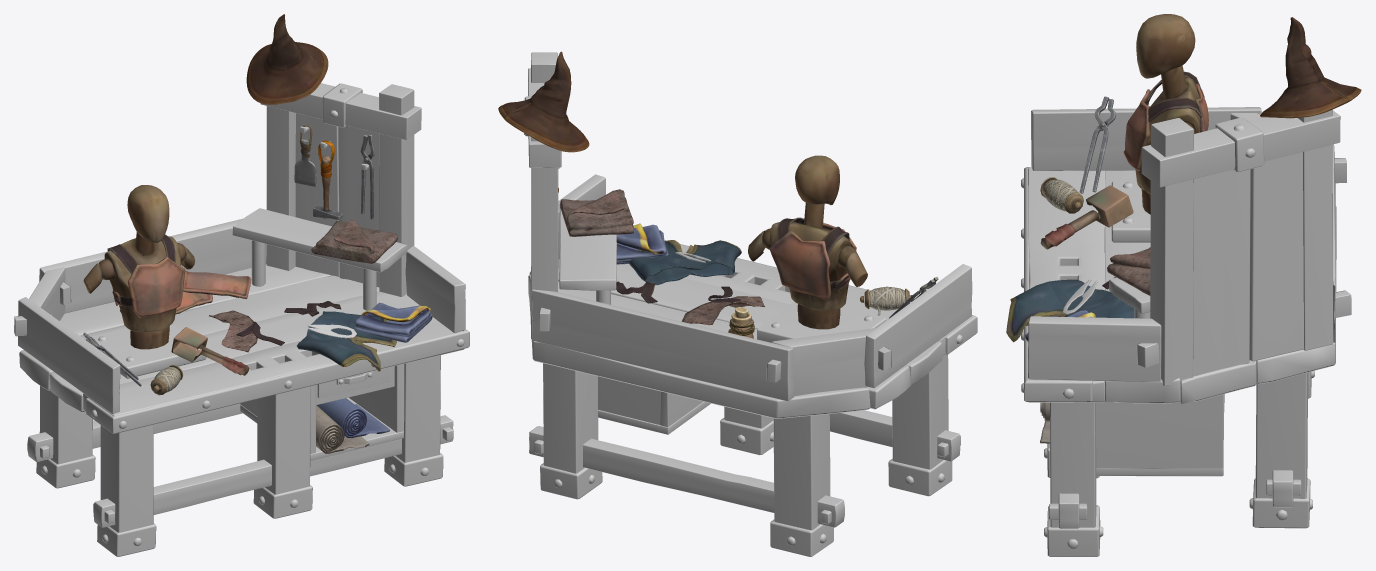
3 renders of one model, left to right at view 1: azimuth 30°, elevation 25°; view 2: azimuth 150°, elevation 25°; view 3: azimuth 270°, elevation 25°, orthographic. The views are drawn at different scales.
Visible parts, largest first — view 1: SM_ArmourBench_LOD0; view 2: SM_ArmourBench_LOD0; view 3: SM_ArmourBench_LOD0.
Boxes of the visible parts, x1,y1,x2,y2 form: SM_ArmourBench_LOD0: [14, 14, 469, 556]; SM_ArmourBench_LOD0: [498, 51, 977, 556]; SM_ArmourBench_LOD0: [1006, 14, 1361, 556].
Bounding box in the file's own units: 2.5 × 2.6 × 1.66.
